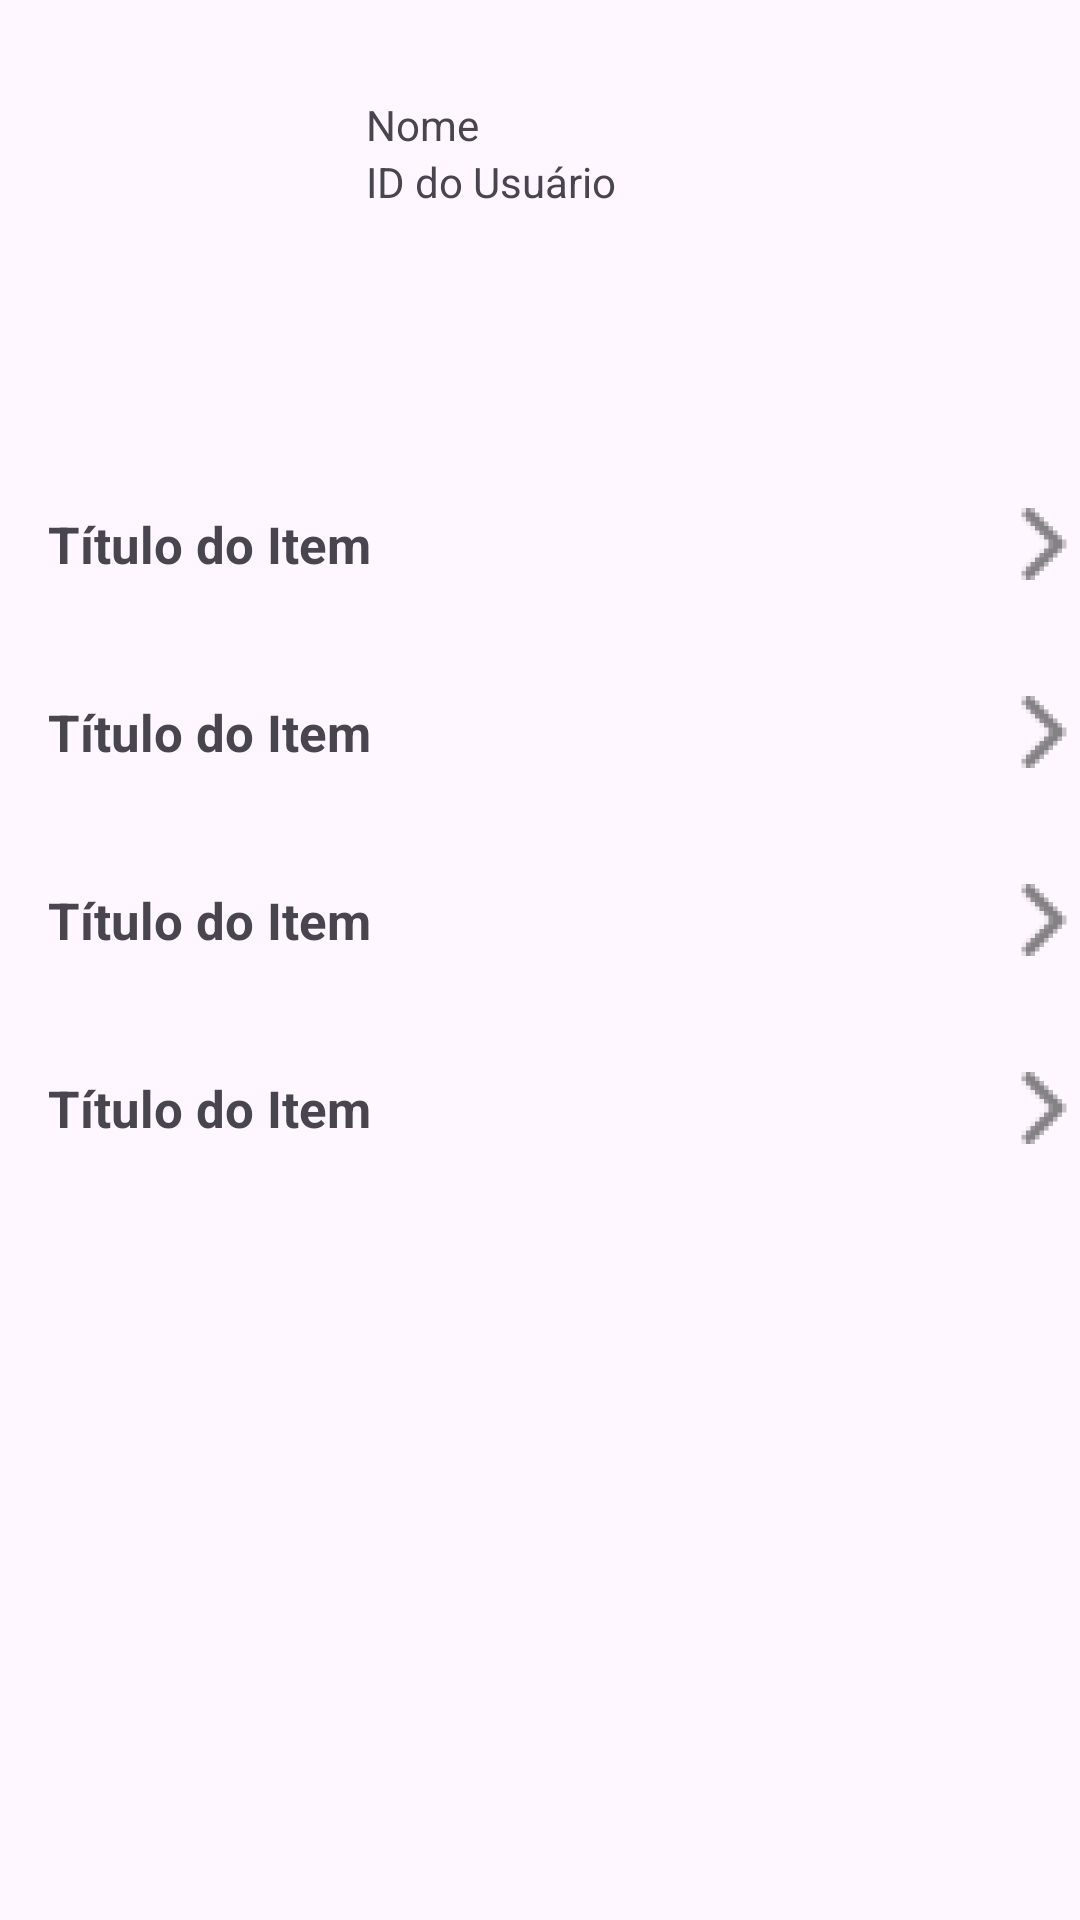

Named icons in this screenshot (1080x1920) and their centers, (x,y):
seta direita: (1044,544), (1044,732), (1044,920), (1044,1108)
